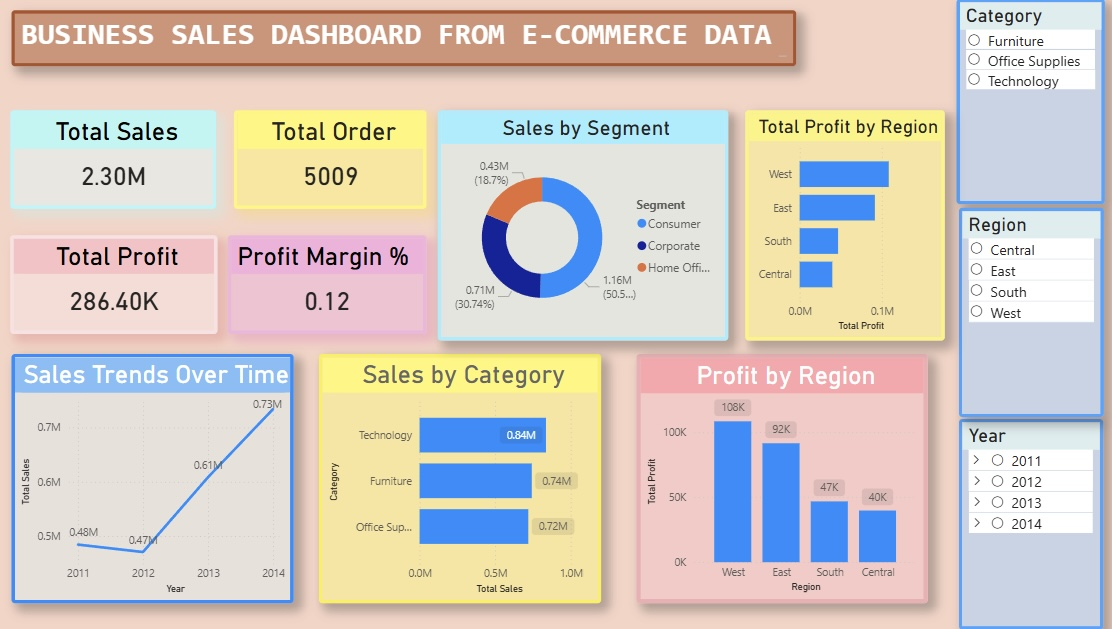

This screenshot's page, from the dashboard's own definition file:
{"tool":"powerbi","page":{"name":"Page 1","canvas":[1280,720],"ordinal":0},"visuals":[{"type":"card","title":"Total Sales","fields":{"Values":["Orders.Total Sales"]},"box":[18.6,168.6,197.1,171.4],"z":0},{"type":"card","title":"Total Profit","fields":{"Values":["Orders.Total Profit"]},"box":[467.5,167.5,197.5,171.2],"z":1000},{"type":"card","title":"Profit Margin %","fields":{"Values":["Orders.Profit Margin %"]},"box":[685,167.5,220,171.2],"z":2000},{"type":"card","title":"Total Order","fields":{"Values":["Orders.Total Order"]},"box":[236.2,167.5,205,171.2],"z":3000},{"type":"lineChart","title":"Sales Trends Over Time","fields":{"Category":["Orders (2).Order Date.Variation.Date Hierarchy.Year"],"Y":["Orders.Total Sales"]},"box":[930,68.6,322.9,284.3],"z":4000},{"type":"barChart","title":"Sales by Category","fields":{"Category":["Orders (2).Category"],"Y":["Orders.Total Sales"]},"box":[930,385.7,322.9,284.3],"z":5000},{"type":"clusteredColumnChart","title":"Profit by Region","fields":{"Category":["Orders (2).Region"],"Y":["Orders.Total Profit"]},"box":[572.9,385.7,332.9,284.3],"z":6000},{"type":"listSlicer","fields":{"Values":["Orders (2).Order Date.Variation.Date Hierarchy.Year","Orders (2).Order Date.Variation.Date Hierarchy.Quarter","Orders (2).Order Date.Variation.Date Hierarchy.Month","Orders (2).Order Date.Variation.Date Hierarchy.Day"]},"box":[200,402.9,155.7,251.4],"z":7000},{"type":"listSlicer","fields":{"Values":["Orders (2).Category"]},"box":[387.7,401.2,159.5,251.5],"z":8000},{"type":"listSlicer","fields":{"Values":["Orders (2).Region"]},"box":[18.6,402.9,161.4,251.4],"z":9000},{"type":"textbox","title":"BUSINESS SALES DASHBOARD FROM E-COMMERCE DATA","box":[18.6,47.1,897.1,62.9],"z":10000}]}

Visuals, with their boxes in screenshot pixels (x1, y1, x2, y2), scaled from the page's 1280x720 canvas onto the 1112x629 screenshot:
"Total Sales" card: [16,147,187,297]
"Total Profit" card: [406,146,578,296]
"Profit Margin %" card: [595,146,786,296]
"Total Order" card: [205,146,383,296]
"Sales Trends Over Time" lineChart: [808,60,1088,308]
"Sales by Category" barChart: [808,337,1088,585]
"Profit by Region" clusteredColumnChart: [498,337,787,585]
listSlicer - Orders (2).Order Date.Variation.Date Hierarchy.Year x Orders (2).Order Date.Variation.Date Hierarchy.Quarter: [174,352,309,572]
listSlicer - Orders (2).Category: [337,350,475,570]
listSlicer - Orders (2).Region: [16,352,156,572]
"BUSINESS SALES DASHBOARD FROM E-COMMERCE DATA" textbox: [16,41,796,96]
